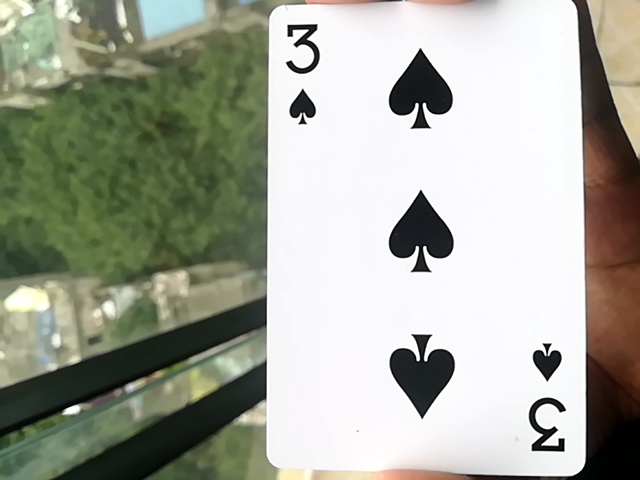ht 3: (249, 7, 602, 477)
